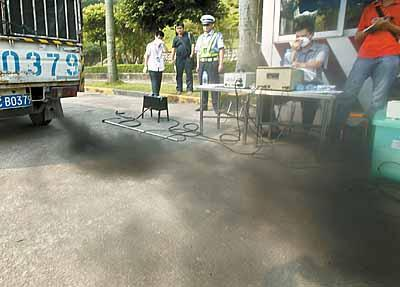smoke: (46, 119, 167, 180)
